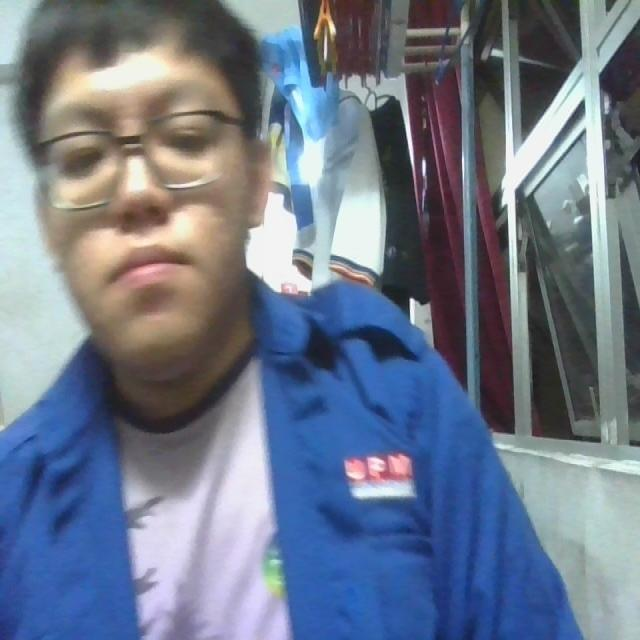person_with_labcoat: (0, 0, 581, 639)
